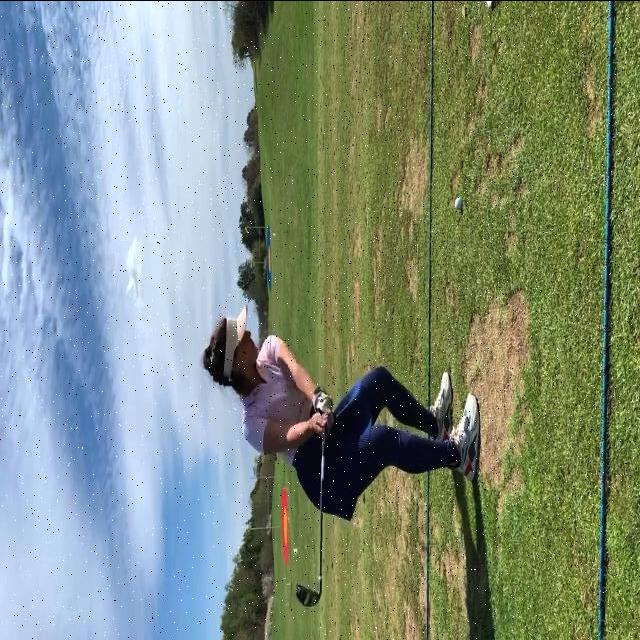golf ball: (455, 195, 465, 209)
golf club-handle: (295, 420, 331, 605)
golf club-head: (294, 582, 320, 603)
